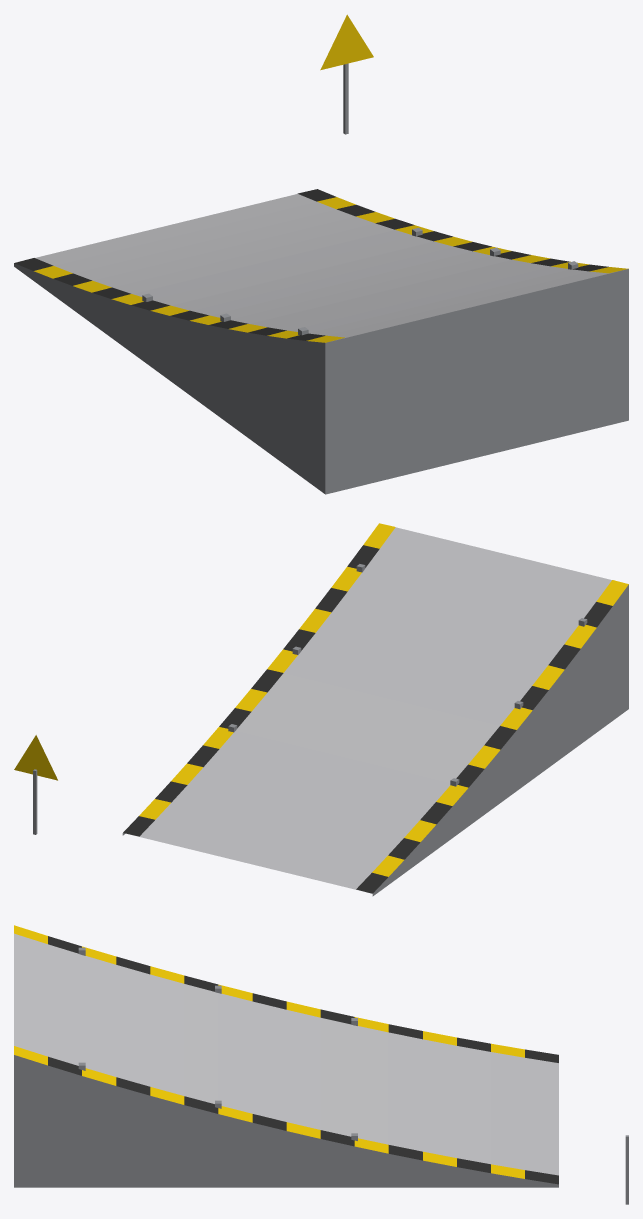
File: ramp.glb
The picture shows the model from 3 angles, top to bottom: view 1: azimuth 30°, elevation 25°; view 2: azimuth 150°, elevation 25°; view 3: azimuth 270°, elevation 25°; orthographic projection. The views are drawn at different scales.
Visible parts, largest first — view 1: ramp; view 2: ramp; view 3: ramp.
Part boxes in pixels (x1=…): ramp: x1=14, y1=14, x2=628, y2=494; ramp: x1=14, y1=523, x2=628, y2=896; ramp: x1=14, y1=925, x2=628, y2=1204.
Bounding box in the file's own units: 11.8 × 4.31 × 18.05.
